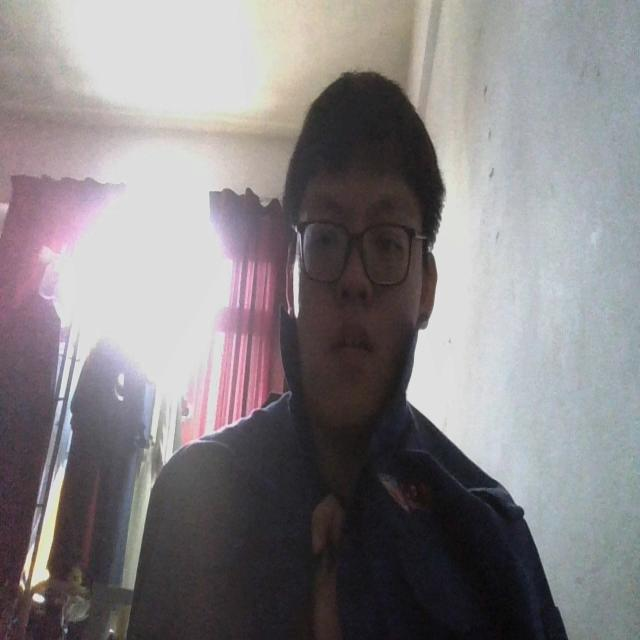person_without_labcoat: (130, 72, 566, 639)
